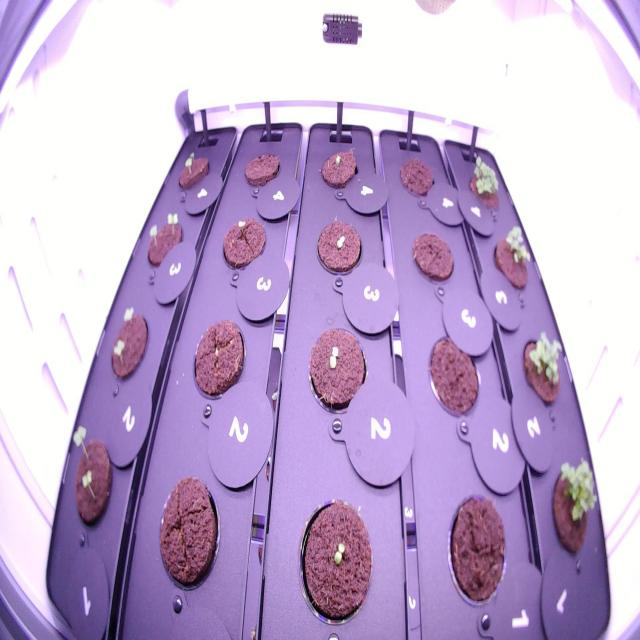germination: (292, 491, 379, 634), (63, 416, 122, 547), (301, 316, 371, 424), (546, 446, 604, 569), (518, 315, 569, 411), (309, 210, 366, 289), (213, 209, 271, 284), (105, 301, 152, 388), (489, 216, 536, 297), (140, 206, 188, 273), (462, 149, 505, 219), (314, 138, 360, 198), (169, 143, 213, 194)
pod: (152, 468, 225, 602), (441, 484, 513, 618), (184, 308, 250, 412), (422, 322, 484, 426), (406, 224, 460, 291), (392, 148, 438, 206), (236, 144, 288, 192)
